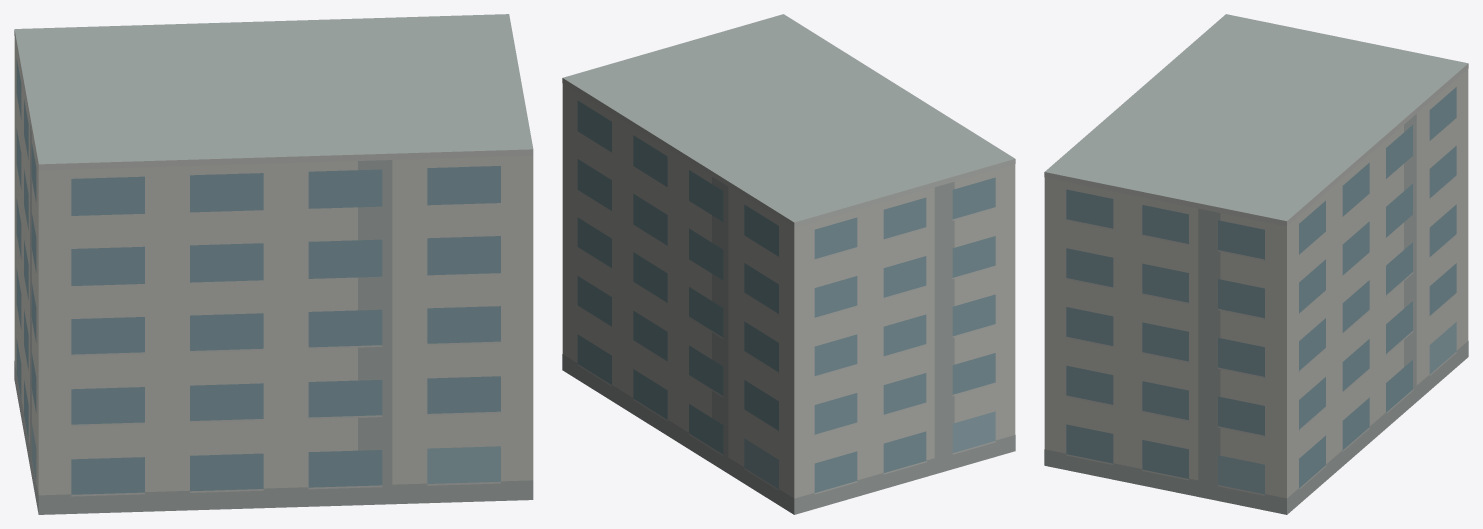
File: survey-upis-32630072.glb
3 views of the same model, side by side, from view 1: azimuth 30°, elevation 25°; view 2: azimuth 150°, elevation 25°; view 3: azimuth 270°, elevation 25° (orthographic). The views are drawn at different scales.
Parts seen in each view (by area): view 1: survey-upis-32630072.tmp; view 2: survey-upis-32630072.tmp; view 3: survey-upis-32630072.tmp.
Part boxes in pixels (x1=…): survey-upis-32630072.tmp: x1=14, y1=14, x2=533, y2=514; survey-upis-32630072.tmp: x1=562, y1=14, x2=1015, y2=514; survey-upis-32630072.tmp: x1=1044, y1=14, x2=1468, y2=514.
Size of the model in its own units: 20.28 by 13.4 by 17.54.
